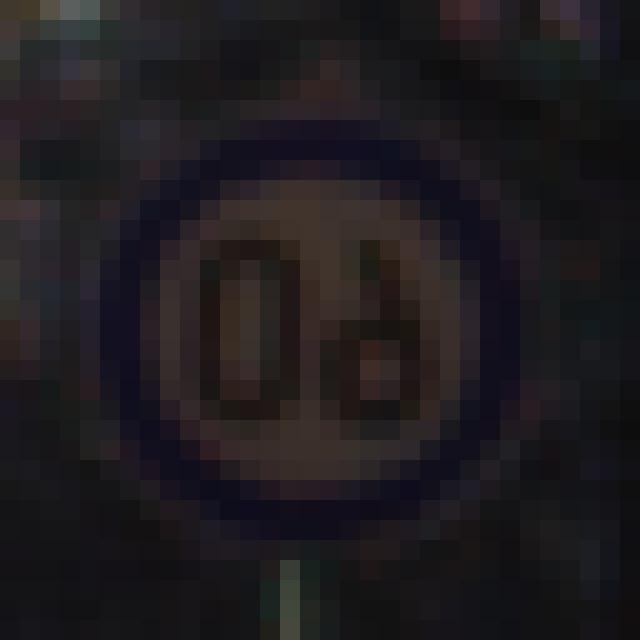SPEED-LIMIT-60: (68, 104, 544, 567)
